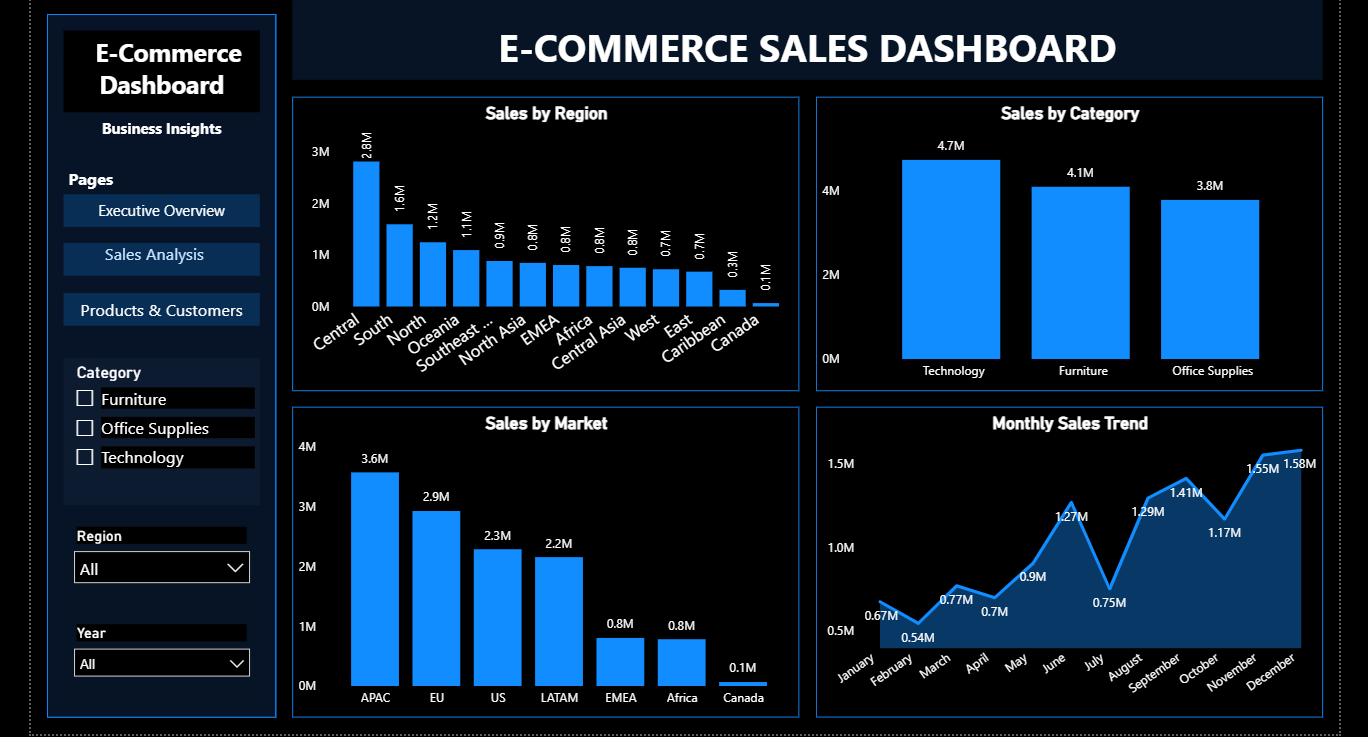

The dashboard page shown, as its layout file describes it:
{"tool":"powerbi","page":{"name":"Sales Analysis","canvas":[1280,720],"ordinal":1},"visuals":[{"type":"columnChart","title":"Sales by Region","fields":{"Category":["sales_data.region"],"Y":["Sum(sales_data.sales)"]},"box":[256,96,496,288],"z":0},{"type":"columnChart","title":"Sales by Market","fields":{"Category":["sales_data.market"],"Y":["Sum(sales_data.sales)"]},"box":[256,400,496,304],"z":1000},{"type":"stackedAreaChart","title":"Monthly Sales Trend","fields":{"Category":["sales_data.order_date.Variation.Date Hierarchy.Month"],"Y":["Sum(sales_data.sales)"]},"box":[768,400,496,304],"z":2000},{"type":"clusteredColumnChart","title":"Sales by Category","fields":{"Category":["sales_data.category"],"Y":["Sum(sales_data.sales)"]},"box":[768,96,496,288],"z":3000},{"type":"shape","box":[16,16,224,688],"z":4000},{"type":"actionButton","box":[19.8,20.6,100,40],"z":5000},{"type":"shape","box":[16,16,224,688],"z":6000},{"type":"textbox","box":[32,112,192,32],"z":7000},{"type":"textbox","box":[32,160,208,32],"z":8000},{"type":"textbox","box":[32,192,192,32],"z":9000},{"type":"textbox","box":[-0.2,233.8,241.6,38.2],"z":10000},{"type":"textbox","box":[32,288,192,32],"z":11000},{"type":"textbox","box":[256,0,1008,80],"z":12000},{"type":"slicer","title":"Year","fields":{"Values":["sales_data.category"]},"box":[32,352,192,144],"z":13000},{"type":"slicer","title":"Region","fields":{"Values":["sales_data.region"]},"box":[32,512,192,96],"z":14000},{"type":"slicer","title":"Year","fields":{"Values":["sales_data.year"]},"box":[32,608,192,80],"z":15000},{"type":"actionButton","box":[32,192,208,32],"z":16000},{"type":"actionButton","box":[32,240,192,32],"z":17000},{"type":"actionButton","box":[32,288,192,32],"z":18000},{"type":"textbox","box":[32,32,192,80],"z":23000}]}

Visuals, with their boxes on the page's 1280x720 design canvas (x1, y1, x2, y2). These are canvas units, not pixel positions in the 1368x737 screenshot, which may show the page scaled, cropped or inside an application window:
"Sales by Region" columnChart: (256, 96, 752, 384)
"Sales by Market" columnChart: (256, 400, 752, 704)
"Monthly Sales Trend" stackedAreaChart: (768, 400, 1264, 704)
"Sales by Category" clusteredColumnChart: (768, 96, 1264, 384)
shape: (16, 16, 240, 704)
actionButton: (20, 21, 120, 61)
shape: (16, 16, 240, 704)
textbox: (32, 112, 224, 144)
textbox: (32, 160, 240, 192)
textbox: (32, 192, 224, 224)
textbox: (0, 234, 241, 272)
textbox: (32, 288, 224, 320)
textbox: (256, 0, 1264, 80)
"Year" slicer: (32, 352, 224, 496)
"Region" slicer: (32, 512, 224, 608)
"Year" slicer: (32, 608, 224, 688)
actionButton: (32, 192, 240, 224)
actionButton: (32, 240, 224, 272)
actionButton: (32, 288, 224, 320)
textbox: (32, 32, 224, 112)
